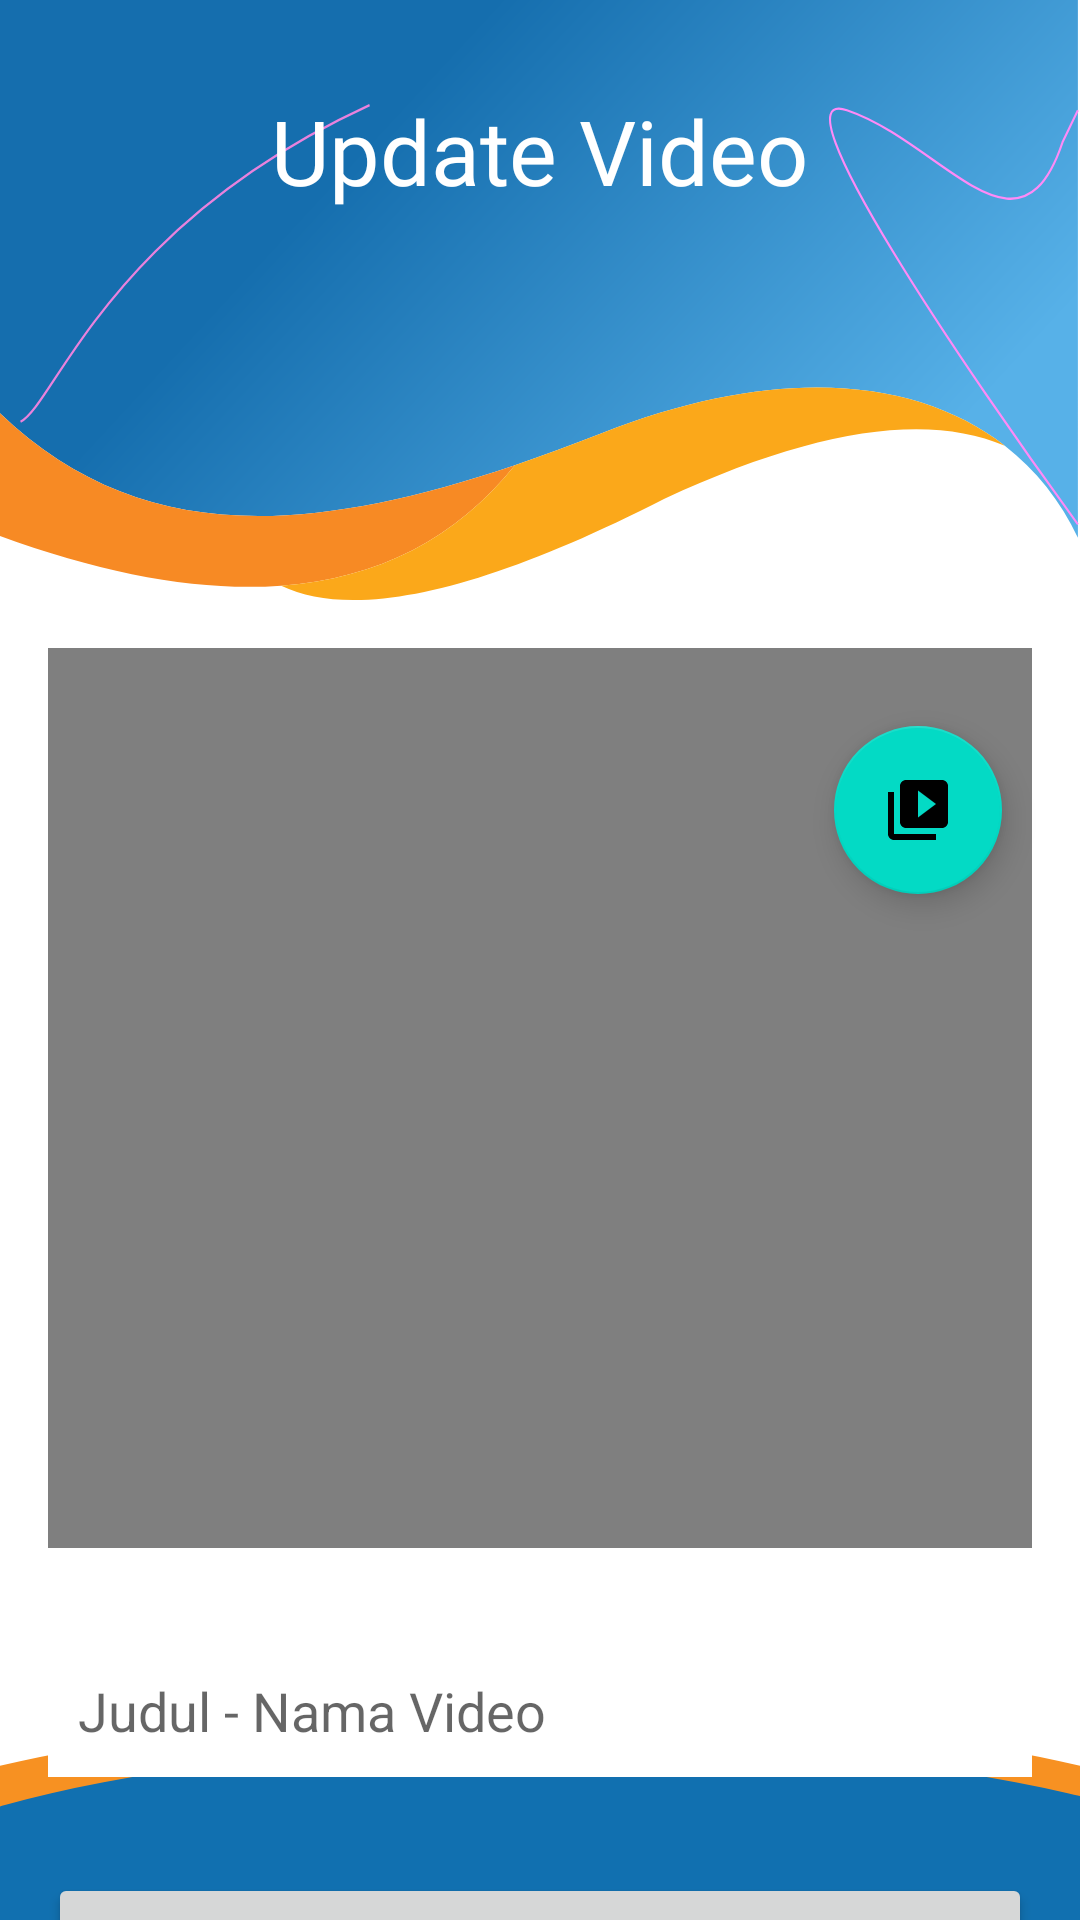

Locate icon controls on the screen. Image size 1080w x 1920h, boxes as (left=x1, top=y1, right=x2, bottom=y2).
video: (left=834, top=726, right=1002, bottom=894)
